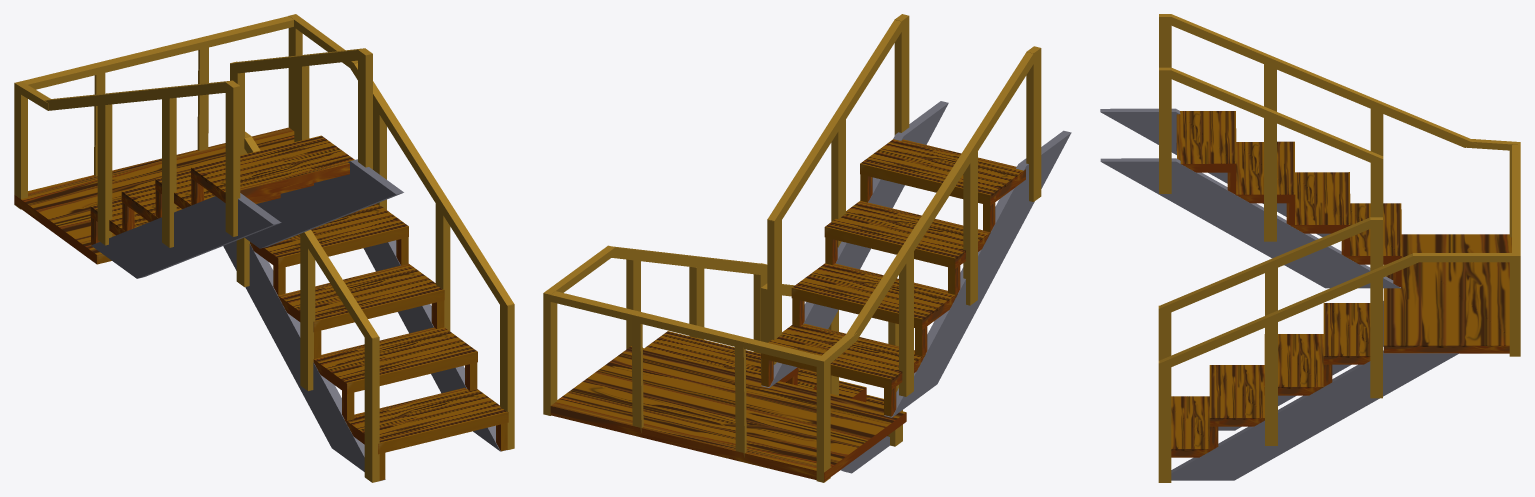
The model's file is floor.fbx.
The picture shows the model from 3 angles, left to right: view 1: azimuth 30°, elevation 25°; view 2: azimuth 150°, elevation 25°; view 3: azimuth 270°, elevation 25°; orthographic projection. The views are drawn at different scales.
Parts seen in each view (by area): view 1: Cube.011, Cube.006, Cube, Cube.004, Cube.002, Cube.001, Cube.010, Cube.003, Cube.005, Cube.008, Cube.009, Cube.007; view 2: Cube.011, Cube.004, Cube.006, Cube.009, Cube.010, Cube.008, Cube.007, Cube.005; view 3: Cube.011, Cube.004, Cube.006, Cube, Cube.010, Cube.002, Cube.008, Cube.005, Cube.009, Cube.003, Cube.001, Cube.007.
Boxes of the visible parts, x1,y1,x2,y2 form: Cube.011: (14, 14, 514, 482); Cube.006: (91, 159, 403, 278); Cube: (223, 240, 506, 480); Cube.004: (14, 127, 294, 264); Cube.002: (313, 327, 477, 420); Cube.001: (344, 387, 508, 480); Cube.010: (191, 135, 354, 205); Cube.003: (278, 264, 444, 358); Cube.005: (250, 203, 408, 295); Cube.008: (121, 183, 280, 231); Cube.009: (155, 170, 313, 218); Cube.007: (90, 198, 149, 244); Cube.011: (543, 14, 1041, 482); Cube.004: (550, 346, 906, 481); Cube.006: (761, 101, 1071, 417); Cube.009: (824, 201, 990, 294); Cube.010: (860, 139, 1025, 232); Cube.008: (791, 263, 957, 356); Cube.007: (761, 323, 925, 416); Cube.005: (645, 331, 798, 385); Cube.011: (1158, 14, 1520, 482); Cube.004: (1383, 234, 1511, 353); Cube.006: (1100, 108, 1400, 288); Cube: (1171, 301, 1458, 480); Cube.010: (1176, 111, 1236, 194); Cube.002: (1209, 365, 1264, 448); Cube.008: (1291, 172, 1350, 255); Cube.005: (1323, 303, 1370, 386); Cube.009: (1236, 141, 1295, 225); Cube.003: (1264, 334, 1323, 395); Cube.001: (1171, 396, 1213, 457); Cube.007: (1344, 203, 1401, 286).
Bounding box in the file's own units: 906 × 1319 × 1415.
